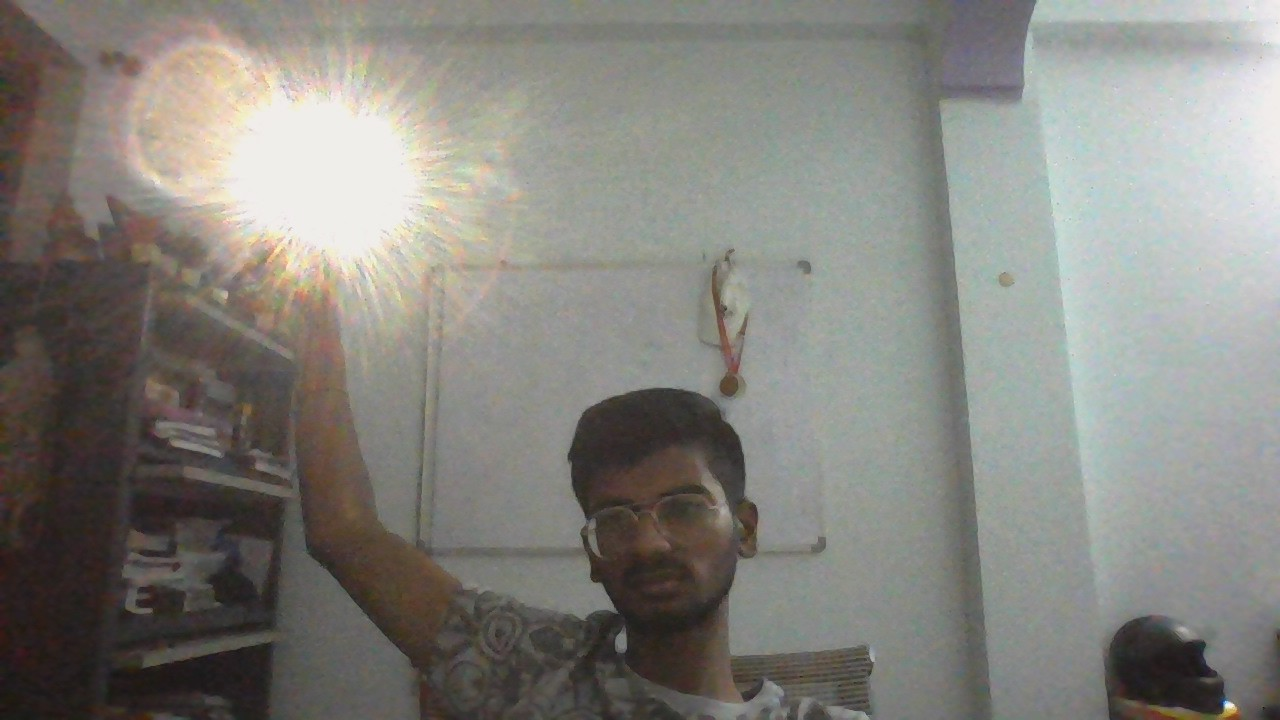Glare: (218, 92, 434, 260)
